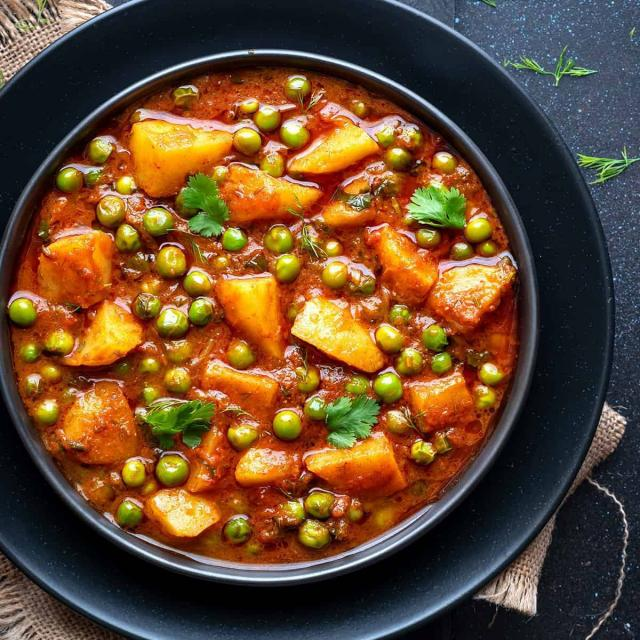Aloo Matar: (19, 72, 532, 571)
